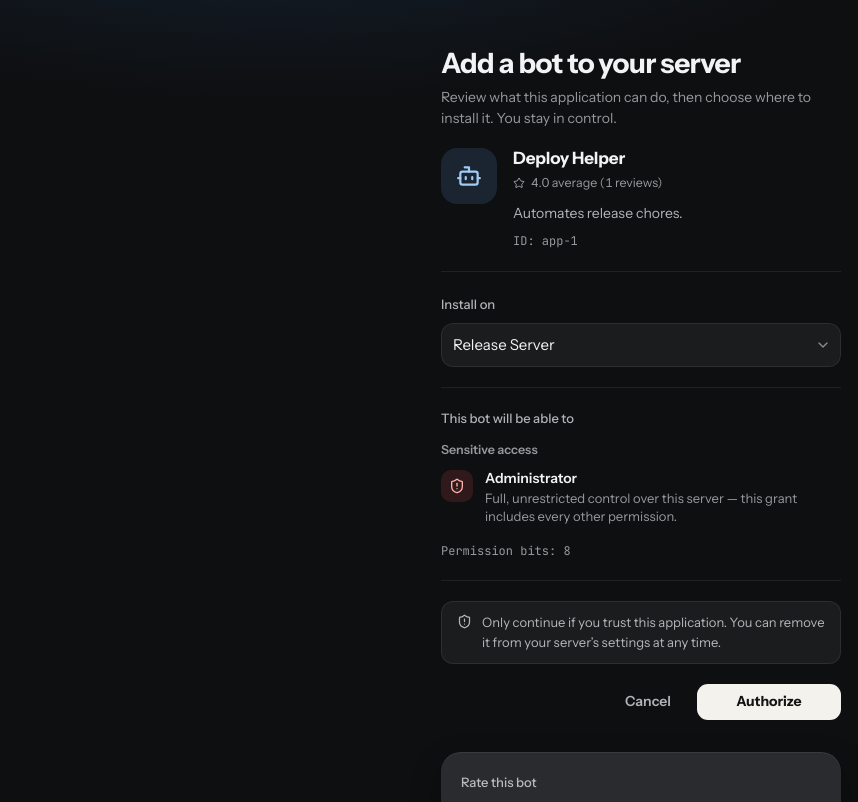
Scenario: BotAuthorizePage review flow › blocks redirect URLs that contain userinfo
Expected: the heading "Deploy Helper" is shown, [513, 148, 625, 168]
Click the button "Authorize".
click(769, 702)  # box [697, 684, 841, 720]
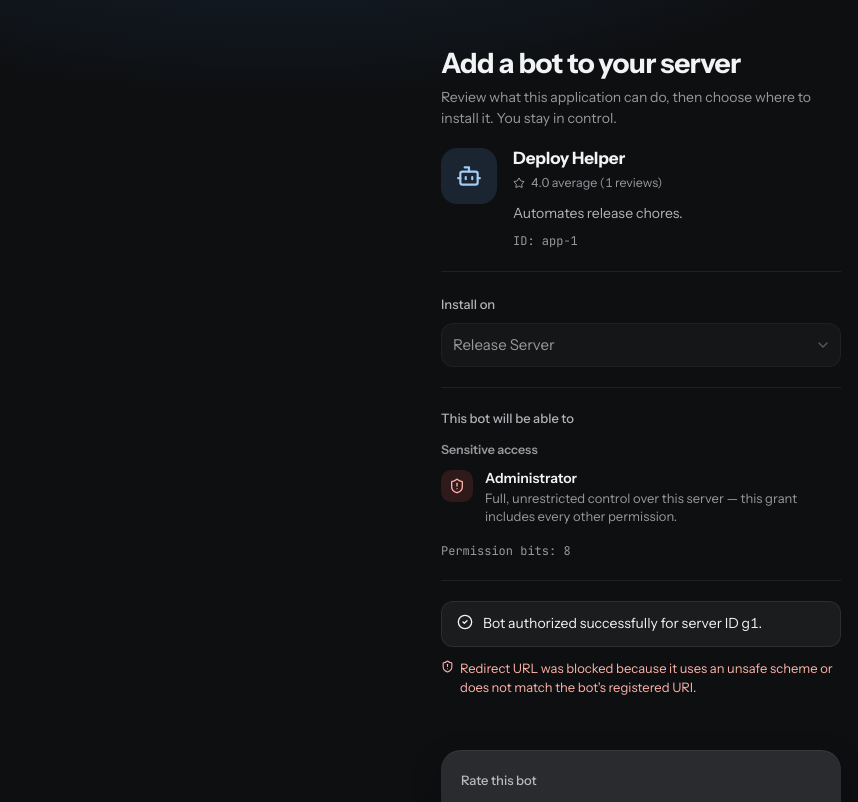
Expected: the text "Bot authorized successfully for server ID g1." is shown, [483, 613, 762, 635]
Expected: the text "Redirect URL was blocked" is shown, [460, 660, 833, 695]
